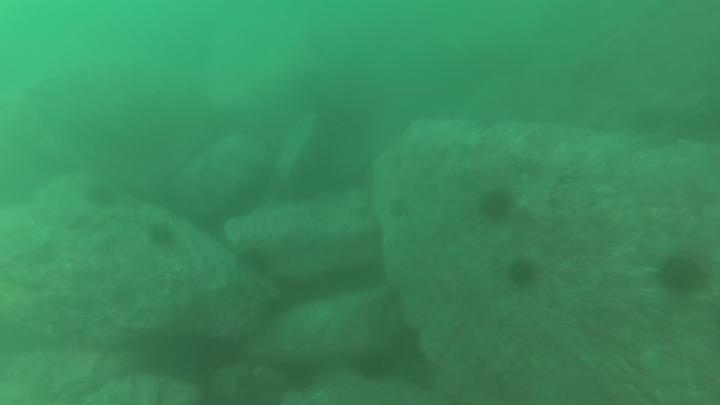echinus: (655, 251, 710, 297), (476, 185, 517, 223), (352, 348, 395, 384), (280, 358, 321, 395), (236, 243, 275, 277), (504, 255, 541, 290), (143, 219, 179, 251), (83, 181, 119, 211)
starfish: (385, 193, 414, 223)
